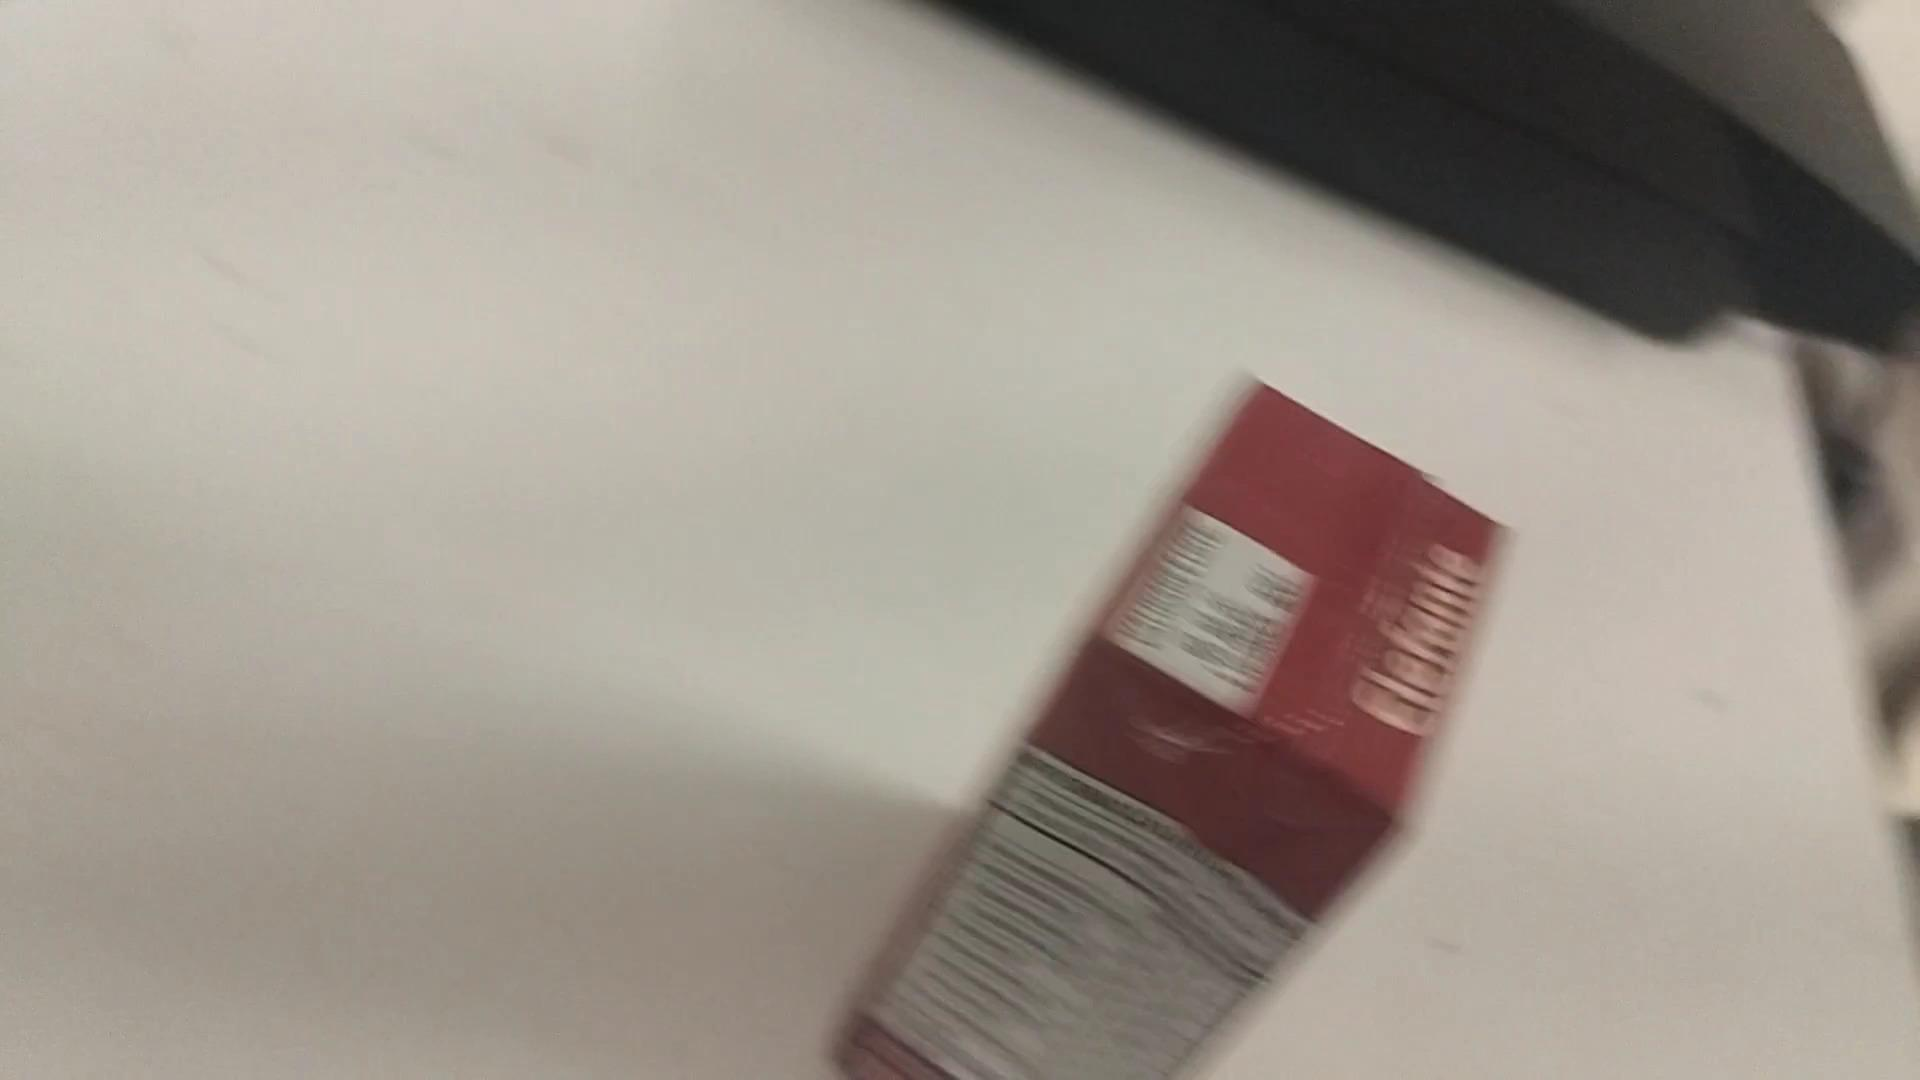tomate: (783, 348, 1506, 1075)
